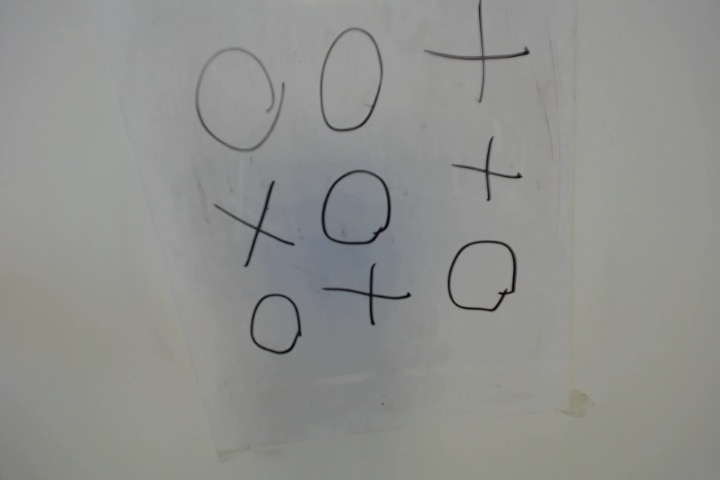0: (189, 45, 292, 156), (318, 25, 386, 136), (318, 168, 394, 246), (442, 234, 518, 312), (247, 292, 304, 357)
x: (428, 1, 531, 98), (323, 265, 415, 337), (213, 189, 295, 263), (448, 135, 525, 203)
